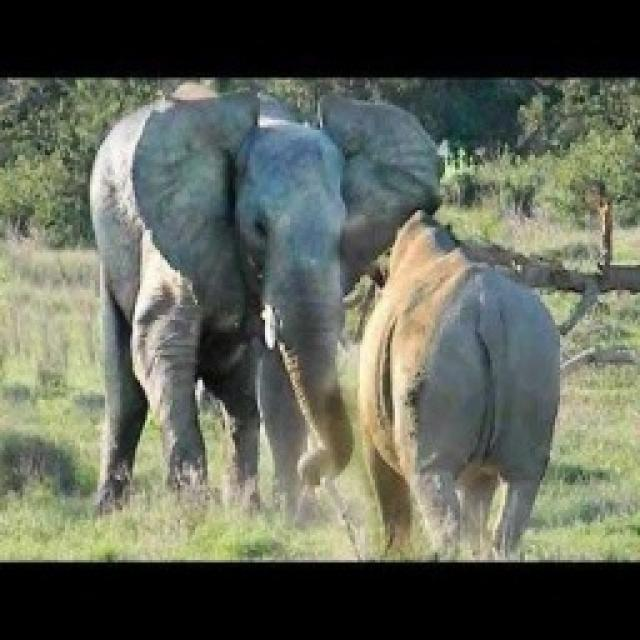not_pig: (88, 80, 442, 530), (355, 208, 560, 560)
